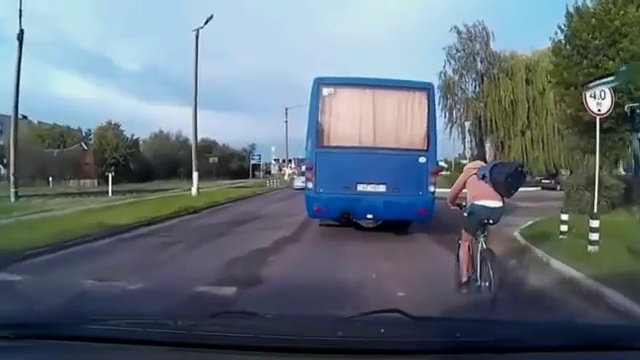cyclist_back: (447, 152, 507, 302)
